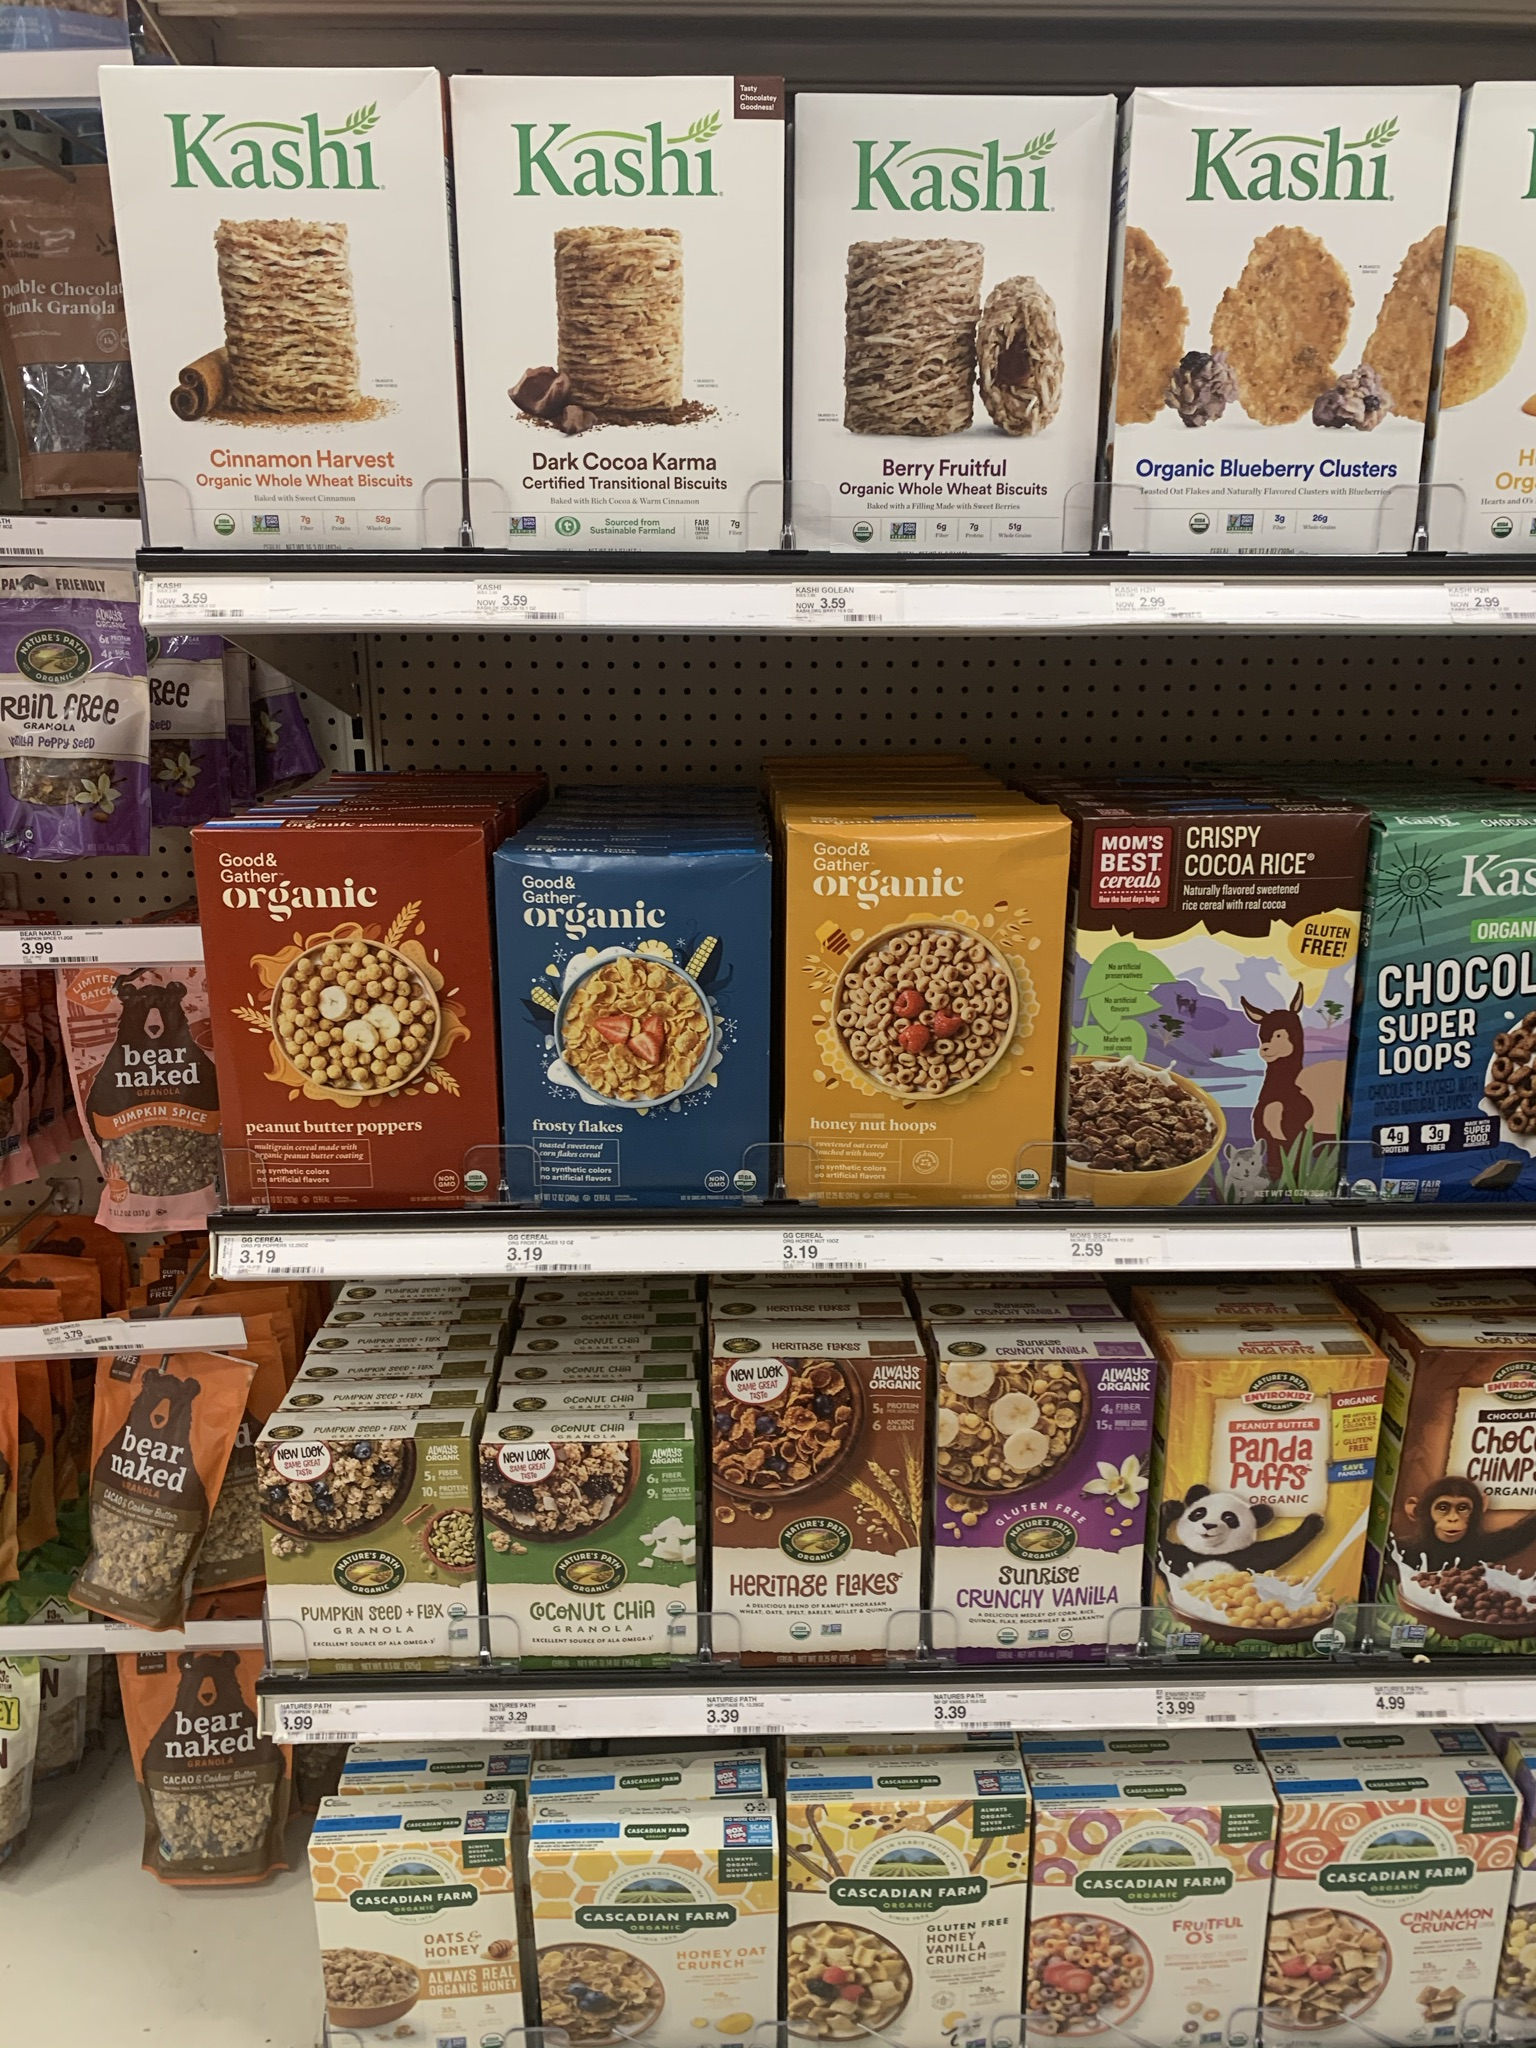cereal: (197, 827, 497, 1219), (771, 819, 1054, 1208), (1079, 819, 1339, 1214), (502, 860, 783, 1198), (1368, 821, 1536, 1209), (1175, 1364, 1375, 1672), (1400, 1353, 1536, 1680)
